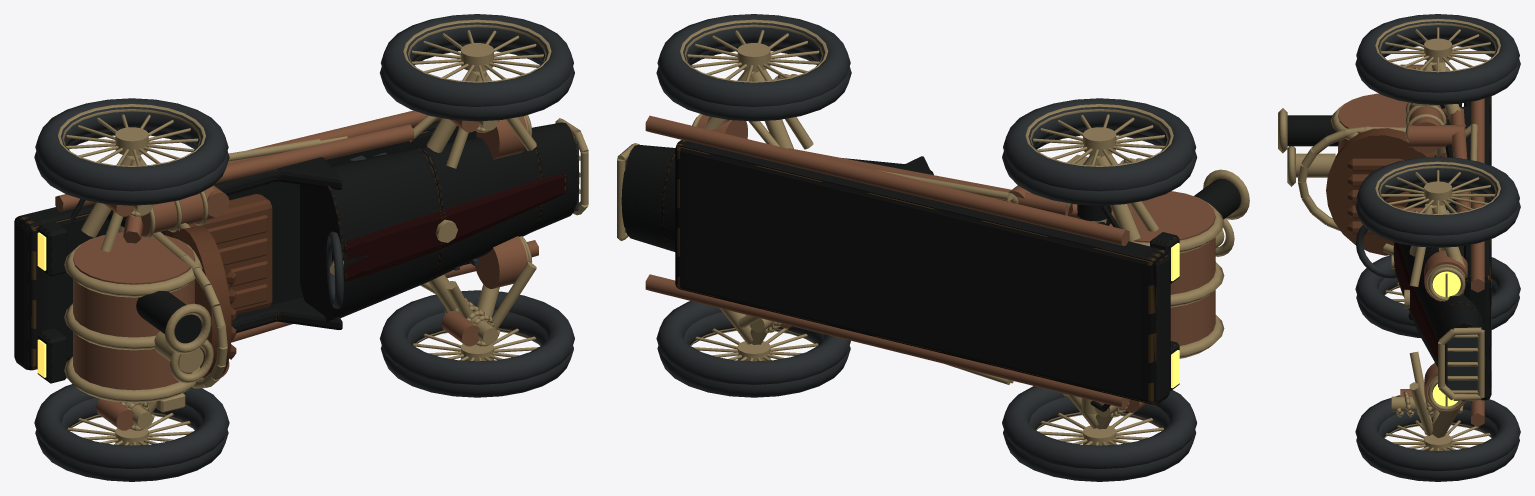
Rendered from kart-high.glb.
3 renders of one model, left to right at view 1: azimuth 30°, elevation 25°; view 2: azimuth 150°, elevation 25°; view 3: azimuth 270°, elevation 25°, orthographic. The views are drawn at different scales.
Parts seen in each view (by area): view 1: kart-root / Riveted iron, kart-root / Copper feed lines, kart-root / Machined brass, Wheel 1 1 / Tire rubber, Wheel 0 1 / Tire rubber, Wheel 0 -1 / Tire rubber, Wheel 1 -1 / Tire rubber, kart-root / Quilted leather, kart-root / Burgundy enamel, Wheel 0 1 / Machined brass, Wheel 1 1 / Machined brass, Wheel 0 -1 / Machined brass (+3 smaller); view 2: kart-root / Riveted iron, kart-root / Copper feed lines, Wheel 0 1 / Tire rubber, Wheel 1 1 / Tire rubber, Wheel 1 -1 / Tire rubber, kart-root / Machined brass, Wheel 0 -1 / Tire rubber, Wheel 0 1 / Machined brass, Wheel 1 1 / Machined brass, Wheel 1 -1 / Machined brass, Wheel 0 -1 / Machined brass; view 3: kart-root / Machined brass, Wheel 0 1 / Tire rubber, Wheel 1 1 / Tire rubber, Wheel 0 -1 / Tire rubber, kart-root / Copper feed lines, kart-root / Riveted iron, kart-root / Quilted leather, Wheel 1 -1 / Tire rubber, Wheel 1 1 / Machined brass, Wheel 0 1 / Machined brass, kart-root / Tire rubber, Wheel 0 -1 / Machined brass (+2 smaller).
Boxes of the visible parts, bbox=[...] form: kart-root / Riveted iron: bbox=[14, 120, 579, 383]; kart-root / Copper feed lines: bbox=[55, 110, 538, 430]; kart-root / Machined brass: bbox=[64, 71, 588, 430]; Wheel 1 1 / Tire rubber: bbox=[34, 98, 229, 205]; Wheel 0 1 / Tire rubber: bbox=[380, 14, 574, 121]; Wheel 0 -1 / Tire rubber: bbox=[379, 290, 574, 397]; Wheel 1 -1 / Tire rubber: bbox=[34, 384, 229, 481]; kart-root / Quilted leather: bbox=[165, 194, 272, 377]; kart-root / Burgundy enamel: bbox=[344, 174, 566, 281]; Wheel 0 1 / Machined brass: bbox=[403, 19, 551, 82]; Wheel 1 1 / Machined brass: bbox=[58, 104, 205, 166]; Wheel 0 -1 / Machined brass: bbox=[413, 328, 541, 361]; kart-root / Riveted iron: bbox=[621, 140, 1240, 411]; kart-root / Copper feed lines: bbox=[645, 115, 1215, 412]; Wheel 0 1 / Tire rubber: bbox=[656, 14, 851, 121]; Wheel 1 1 / Tire rubber: bbox=[1002, 98, 1197, 205]; Wheel 1 -1 / Tire rubber: bbox=[1002, 386, 1196, 481]; kart-root / Machined brass: bbox=[617, 69, 1249, 429]; Wheel 0 -1 / Tire rubber: bbox=[656, 301, 850, 397]; Wheel 0 1 / Machined brass: bbox=[680, 19, 828, 82]; Wheel 1 1 / Machined brass: bbox=[1025, 104, 1173, 166]; Wheel 1 -1 / Machined brass: bbox=[1036, 412, 1163, 445]; Wheel 0 -1 / Machined brass: bbox=[690, 328, 818, 361]; kart-root / Machined brass: bbox=[1278, 60, 1484, 438]; Wheel 0 1 / Tire rubber: bbox=[1355, 157, 1520, 247]; Wheel 1 1 / Tire rubber: bbox=[1355, 14, 1520, 104]; Wheel 0 -1 / Tire rubber: bbox=[1355, 395, 1520, 481]; kart-root / Copper feed lines: bbox=[1338, 64, 1484, 426]; kart-root / Riveted iron: bbox=[1287, 96, 1491, 401]; kart-root / Quilted leather: bbox=[1326, 128, 1446, 255]; Wheel 1 -1 / Tire rubber: bbox=[1355, 255, 1520, 337]; Wheel 1 1 / Machined brass: bbox=[1375, 18, 1500, 72]; Wheel 0 1 / Machined brass: bbox=[1375, 161, 1500, 214]; kart-root / Tire rubber: bbox=[1356, 225, 1477, 390]; Wheel 0 -1 / Machined brass: bbox=[1384, 420, 1491, 450].
Size of the model in its own units: 1.52 by 0.8328 by 0.6886.
8 materials, 2 textured.
